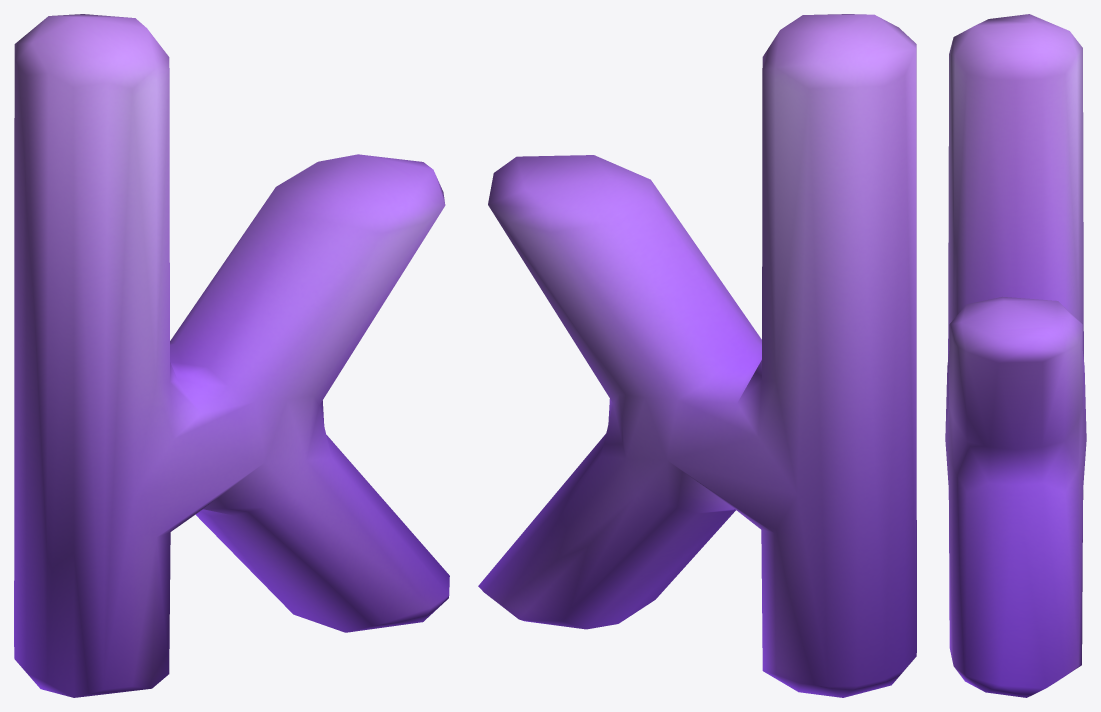
3 views of the same model, side by side, from view 1: azimuth 30°, elevation 25°; view 2: azimuth 150°, elevation 25°; view 3: azimuth 270°, elevation 25° (orthographic). The views are drawn at different scales.
Visible parts, largest first — view 1: Processed_Mesh0_Geometry; view 2: Processed_Mesh0_Geometry; view 3: Processed_Mesh0_Geometry.
Part boxes in pixels (<box>): Processed_Mesh0_Geometry: <box>14,14,449,697</box>; Processed_Mesh0_Geometry: <box>478,14,916,697</box>; Processed_Mesh0_Geometry: <box>945,14,1086,697</box>.
Size of what is drawn, in the model's own units: 0.054 by 0.0818 by 0.0193.
1 material, 1 textured.
